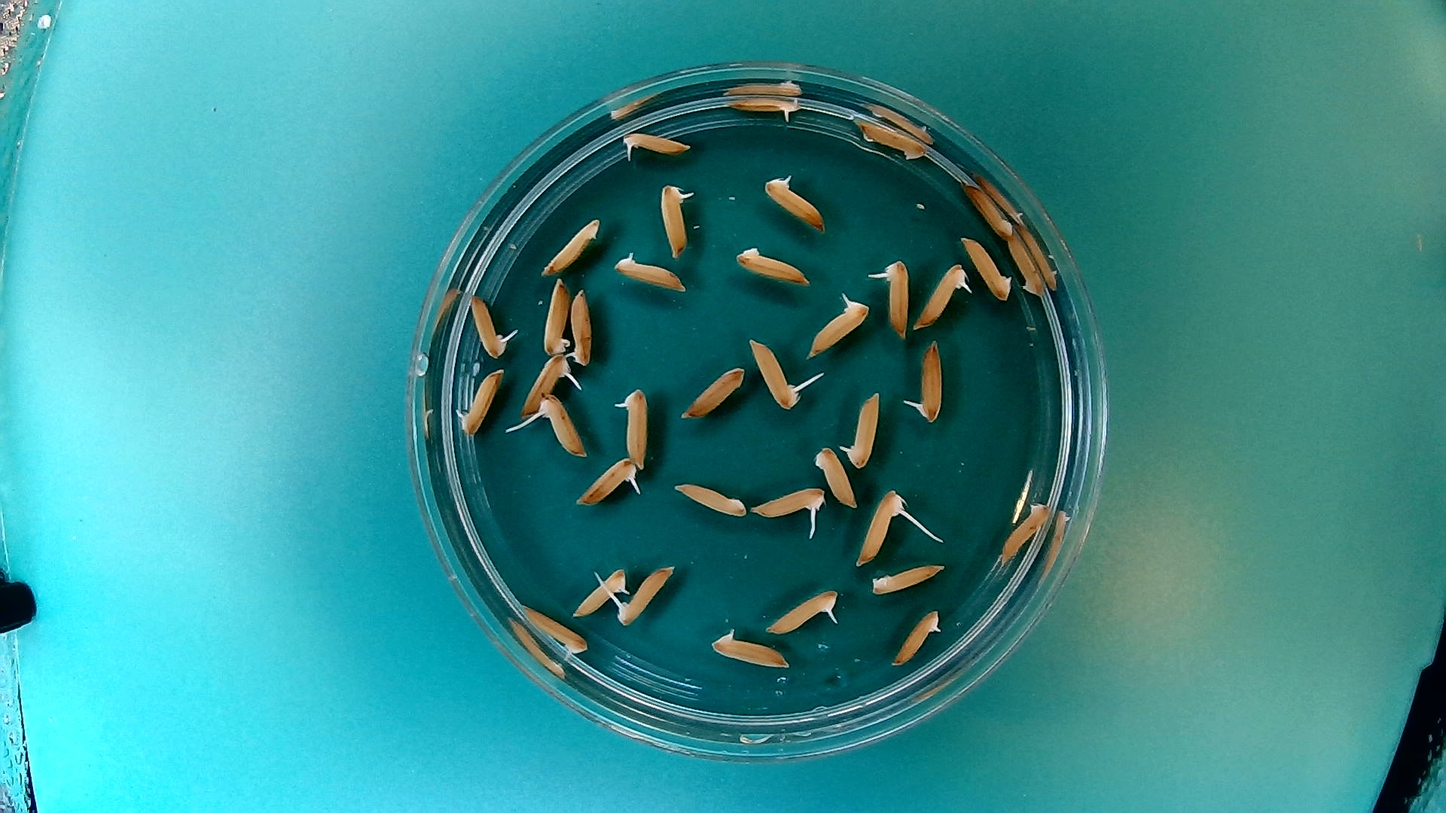no: (679, 362, 746, 422), (731, 241, 814, 287), (997, 497, 1052, 564), (540, 218, 603, 276), (854, 115, 931, 161), (962, 180, 1016, 240), (670, 479, 748, 519), (813, 443, 859, 509), (1005, 229, 1047, 299), (541, 276, 572, 361), (870, 561, 944, 595)
yes: (749, 334, 808, 411), (804, 292, 870, 358), (850, 488, 905, 566), (914, 260, 975, 329), (762, 170, 828, 233), (959, 233, 1015, 304), (761, 586, 841, 635), (520, 604, 592, 658), (614, 564, 676, 626), (517, 352, 575, 418), (706, 626, 793, 670), (454, 366, 507, 437), (905, 336, 947, 425), (841, 387, 884, 470), (610, 248, 689, 293), (572, 457, 639, 510), (468, 288, 518, 359), (536, 391, 588, 457), (747, 483, 828, 525), (873, 256, 912, 341), (889, 605, 943, 666), (657, 178, 697, 260), (614, 386, 651, 471), (573, 567, 627, 620), (618, 123, 694, 157), (724, 91, 804, 122), (567, 287, 596, 371)
